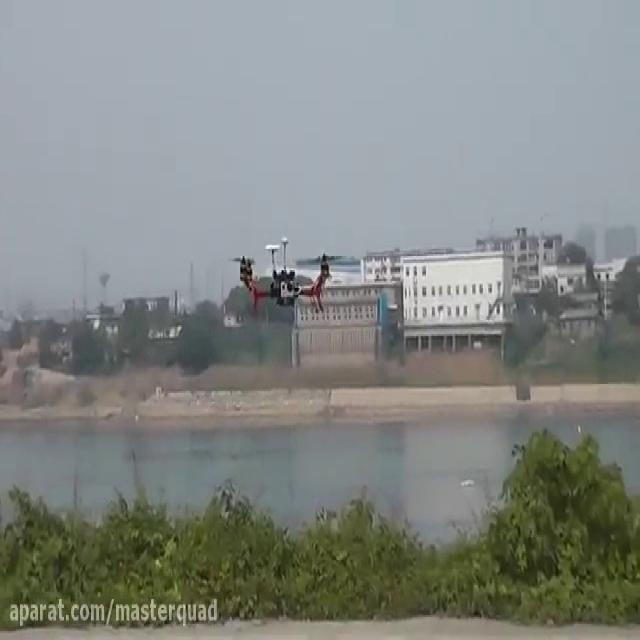drone: (226, 232, 346, 318)
